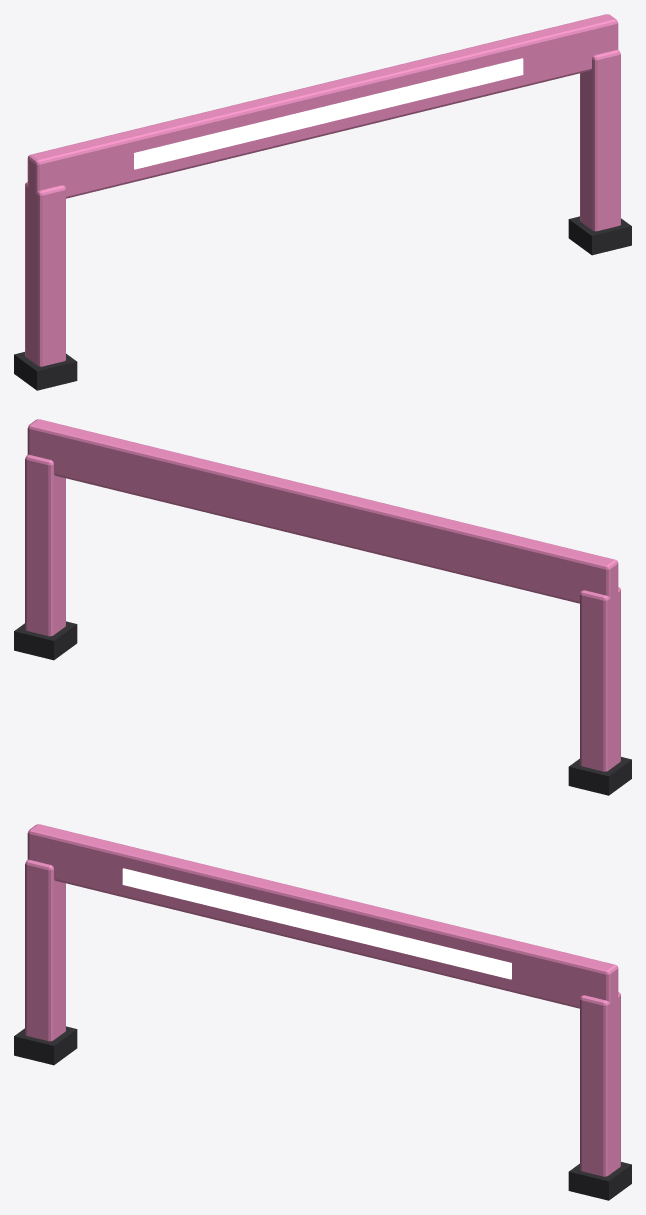
File: gate_race.glb
The picture shows the model from 3 angles, top to bottom: view 1: azimuth 30°, elevation 25°; view 2: azimuth 150°, elevation 25°; view 3: azimuth 330°, elevation 25°; orthographic projection.
Parts seen in each view (by area): view 1: Gate; view 2: Gate; view 3: Gate.
Part boxes in pixels (bbox=[...]): Gate: bbox=[14, 14, 631, 390]; Gate: bbox=[14, 419, 631, 795]; Gate: bbox=[14, 824, 631, 1200].
Size of the model in its own units: 19.3 by 6.9 by 1.3.
